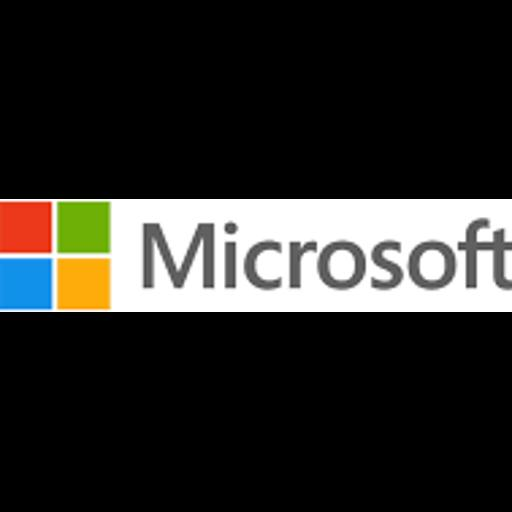Office365: (0, 199, 512, 312)
